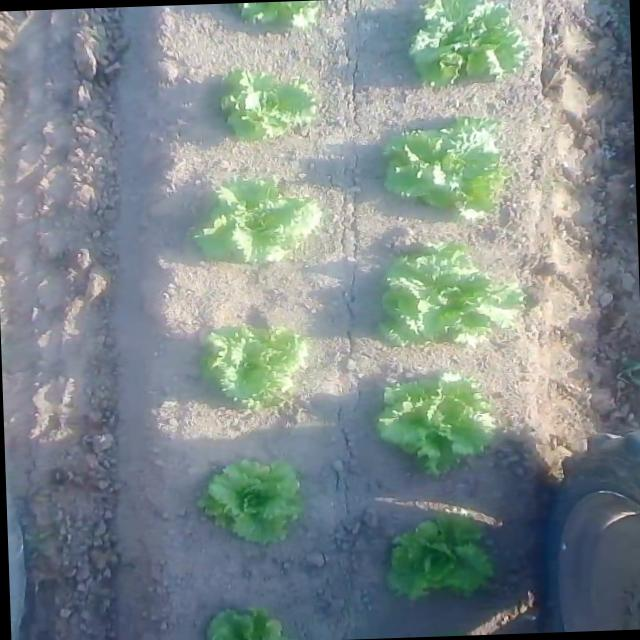Lettuce-Ready-to-Harvest: (172, 172, 328, 285)
